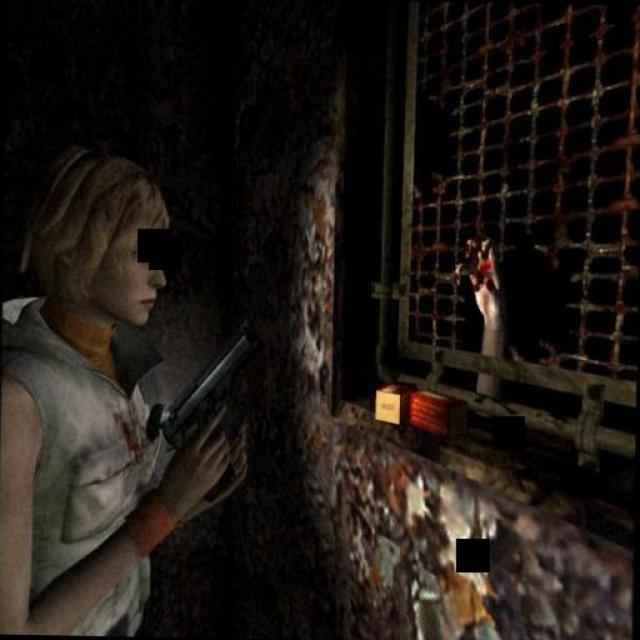gun: (154, 325, 266, 491)
